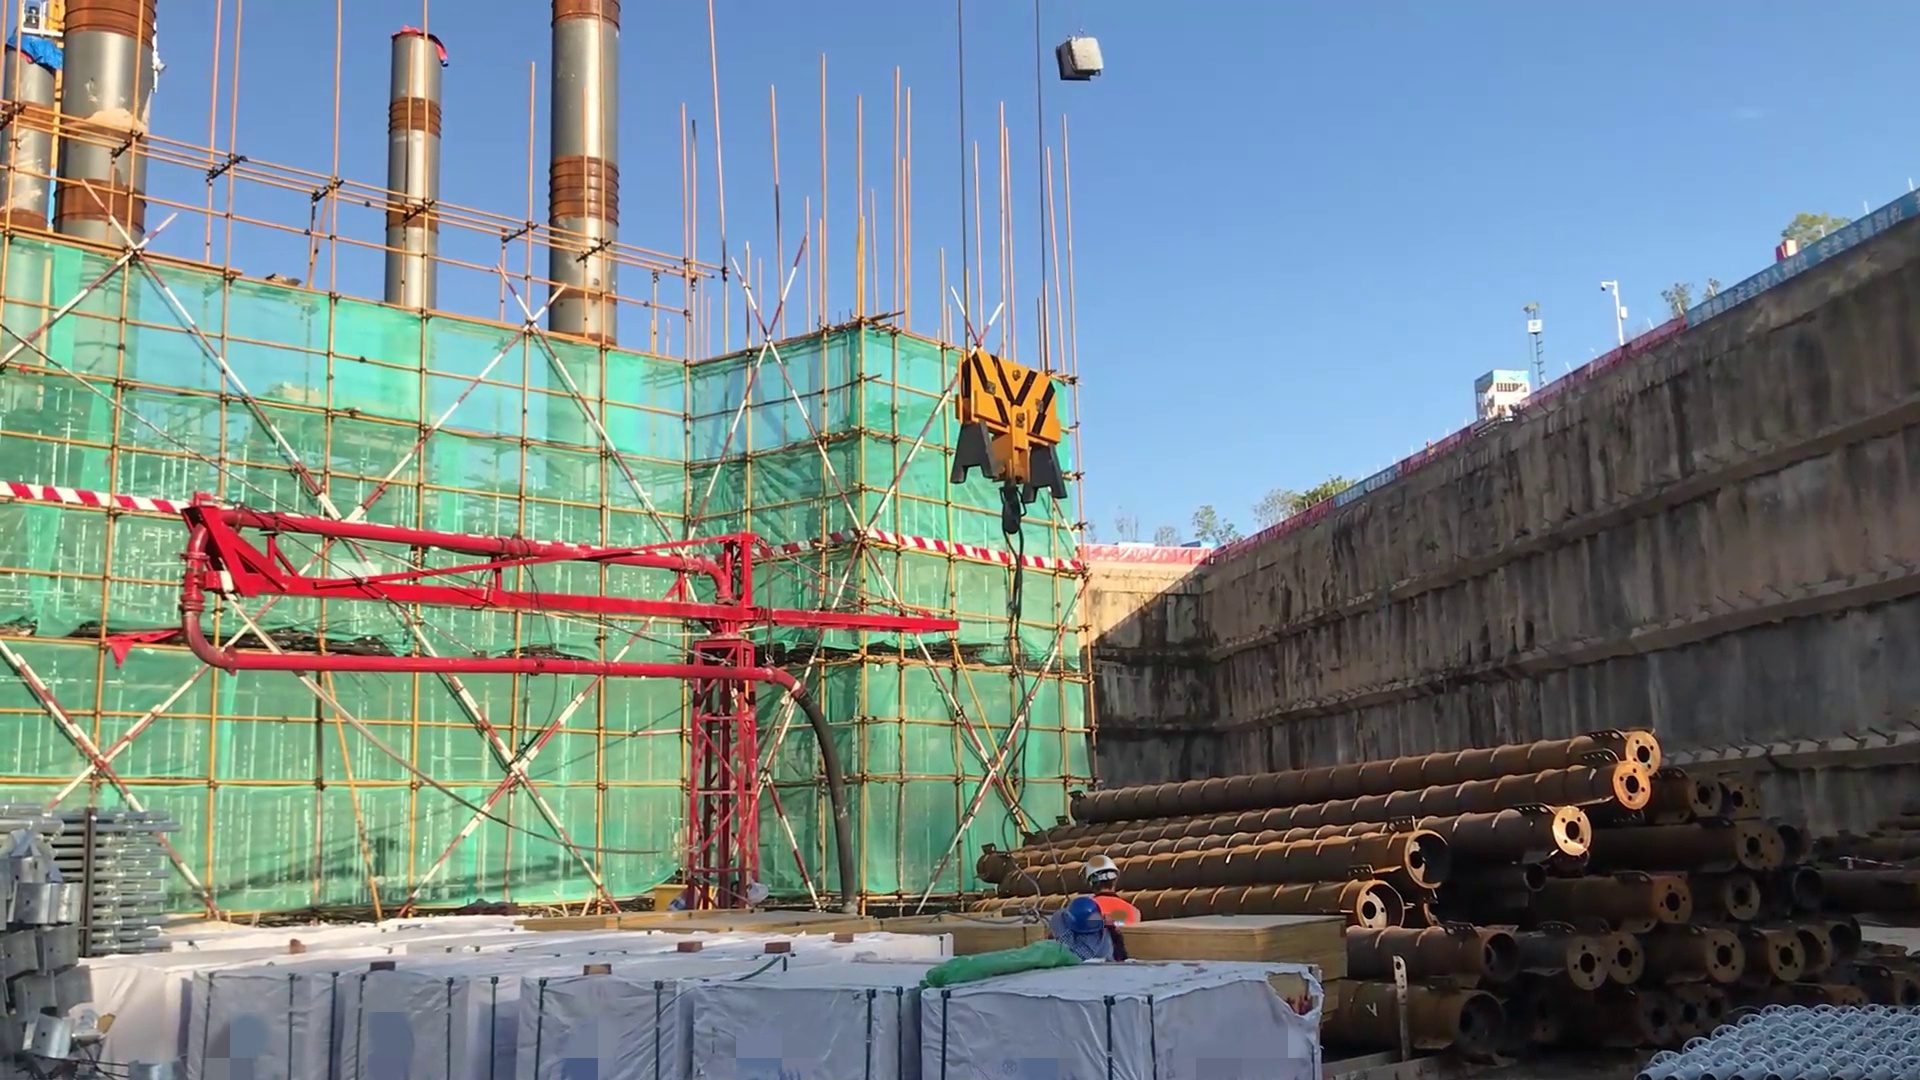board: (1115, 908, 1363, 988)
ebox: (653, 883, 688, 912)
helmet: (1059, 899, 1107, 940), (1085, 853, 1119, 890)
hook: (955, 348, 1073, 524)
person: (1040, 899, 1126, 976), (1077, 853, 1145, 928)
scaffold: (1, 796, 173, 942)
slogan: (1679, 198, 1920, 334), (1330, 451, 1402, 510)
vest: (1091, 889, 1141, 924)
wood: (881, 918, 1043, 955)
